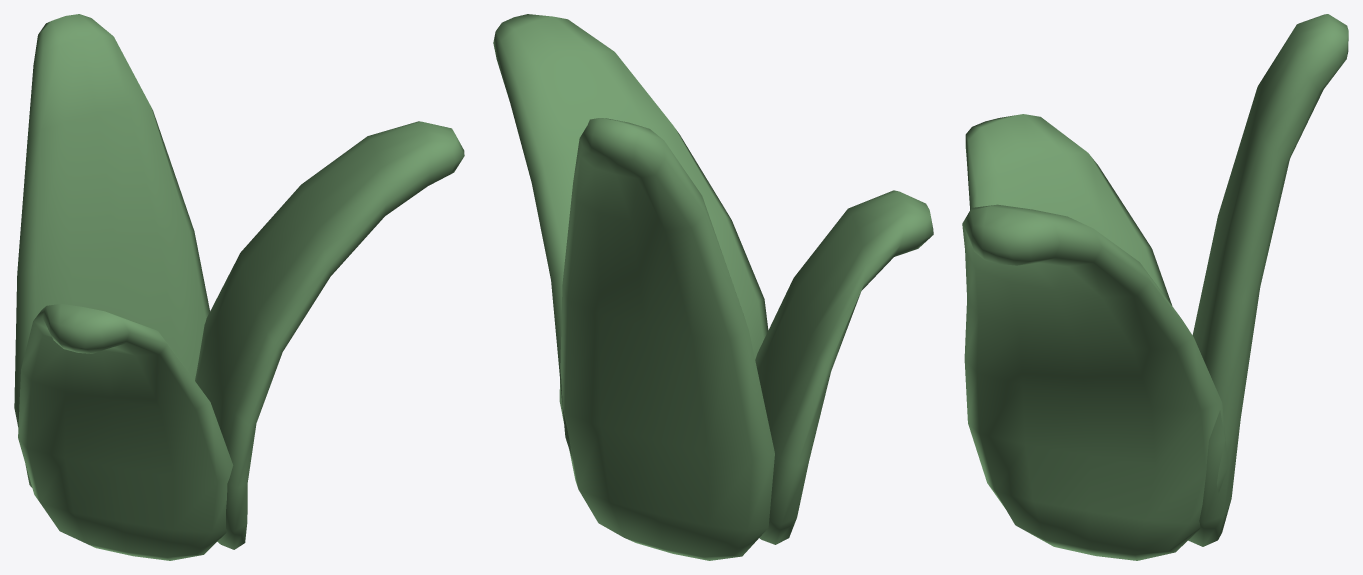
File: grass.fbx
3 renders of one model, left to right at view 1: azimuth 30°, elevation 25°; view 2: azimuth 150°, elevation 25°; view 3: azimuth 270°, elevation 25°, orthographic. The views are drawn at different scales.
Parts seen in each view (by area): view 1: grass; view 2: grass; view 3: grass.
Part boxes in pixels (<box>): grass: <box>14,14,464,560</box>; grass: <box>493,14,933,560</box>; grass: <box>962,14,1348,560</box>.
Bounding box in the file's own units: 121 × 128 × 88.92.
